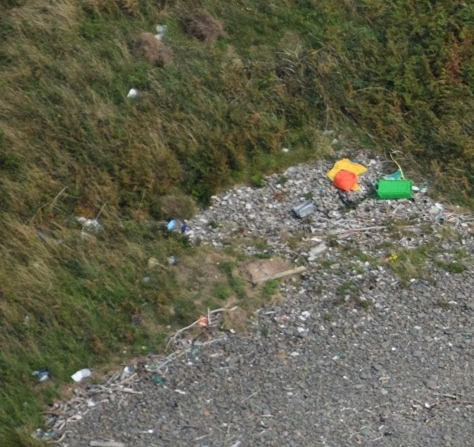scattered_barrel: (316, 138, 436, 219)
white_in_green: (57, 345, 111, 397), (16, 347, 70, 399), (107, 66, 159, 117), (147, 195, 199, 246), (182, 292, 231, 343)
